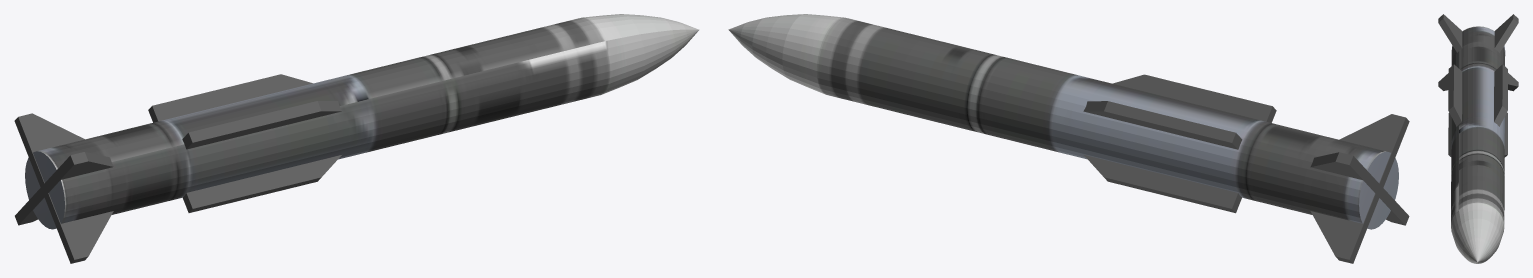
The picture shows the model from 3 angles, left to right: view 1: azimuth 30°, elevation 25°; view 2: azimuth 150°, elevation 25°; view 3: azimuth 270°, elevation 25°; orthographic projection. The views are drawn at different scales.
Parts seen in each view (by area): view 1: 円柱.017; view 2: 円柱.017; view 3: 円柱.017.
Part boxes in pixels (x1,y1,x2,y2): 円柱.017: (14,14,699,263); 円柱.017: (728,14,1409,263); 円柱.017: (1438,14,1518,263).
Bounding box in the file's own units: 5.01 × 0.7959 × 0.7959.
3 materials, 1 textured.
